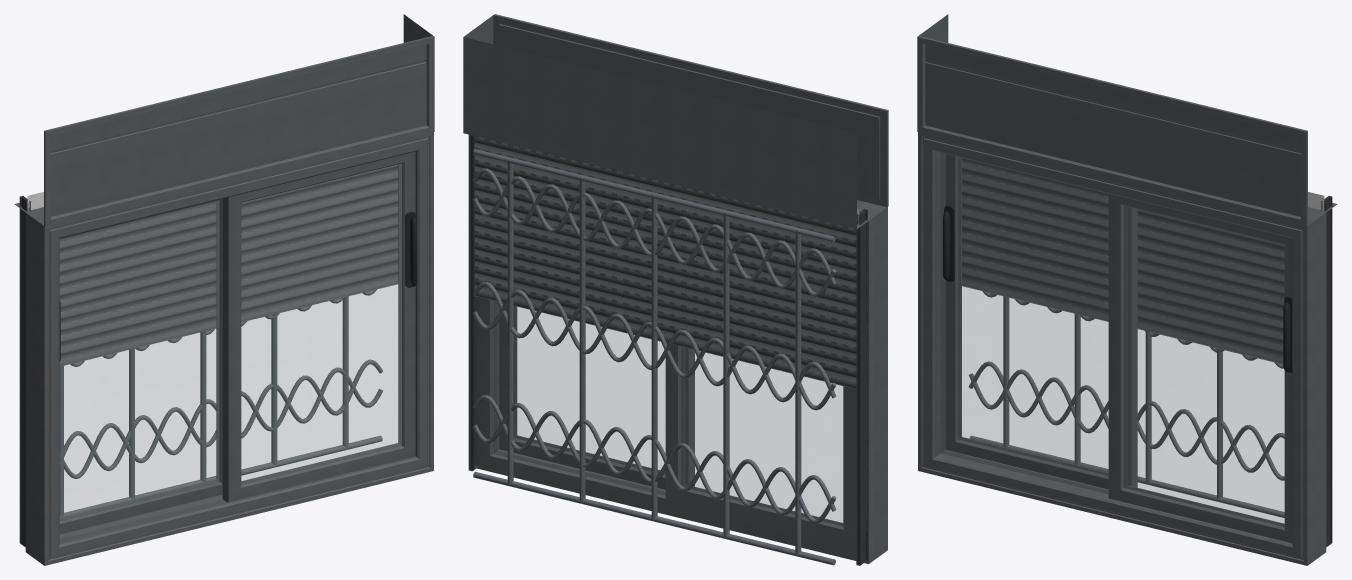
Rendered from window.glb.
3 views of the same model, side by side, from view 1: azimuth 30°, elevation 25°; view 2: azimuth 150°, elevation 25°; view 3: azimuth 330°, elevation 25° (orthographic).
Parts seen in each view (by area): view 1: sash_right_glass, sash_left_glass, shutter_box, shutter_laths_vented, frame, sash_right, security_grille, sash_left, shutter_bottom_rail, shutter_guides, handles; view 2: shutter_box, shutter_laths_vented, security_grille, frame, sash_left_glass, sash_right_glass, sash_left, shutter_guides, sash_right, shutter_bottom_rail; view 3: sash_right_glass, sash_left_glass, shutter_box, frame, shutter_laths_vented, sash_right, security_grille, sash_left, shutter_bottom_rail, shutter_guides, handles.
Boxes of the visible parts, x1,y1,x2,y2 form: sash_right_glass: (241, 164, 401, 483); sash_left_glass: (60, 200, 219, 520); shutter_box: (14, 14, 434, 226); shutter_laths_vented: (59, 164, 398, 354); frame: (25, 132, 433, 565); sash_right: (222, 151, 415, 502); security_grille: (59, 289, 382, 517); sash_left: (59, 198, 222, 533); shutter_bottom_rail: (59, 272, 398, 366); shutter_guides: (19, 196, 30, 546); handles: (59, 211, 417, 361); shutter_box: (463, 14, 888, 229); shutter_laths_vented: (474, 136, 856, 376); security_grille: (472, 149, 836, 565); frame: (476, 200, 887, 563); sash_left_glass: (681, 347, 842, 525); sash_right_glass: (514, 306, 665, 474); sash_left: (665, 343, 853, 544); shutter_guides: (468, 134, 867, 565); sash_right: (499, 303, 694, 489); shutter_bottom_rail: (474, 284, 856, 388); sash_right_glass: (1124, 206, 1284, 526); sash_left_glass: (958, 158, 1108, 475); shutter_box: (917, 14, 1337, 226); frame: (918, 132, 1326, 565); shutter_laths_vented: (962, 158, 1284, 352); sash_right: (1108, 194, 1292, 542); security_grille: (968, 291, 1284, 517); sash_left: (945, 154, 1137, 489); shutter_bottom_rail: (962, 274, 1283, 364); shutter_guides: (1321, 196, 1332, 546); handles: (943, 205, 1292, 372).
Bounding box in the file's own units: 1.2 × 1.28 × 0.2123.
Materials: 10 (10 with a texture image).
